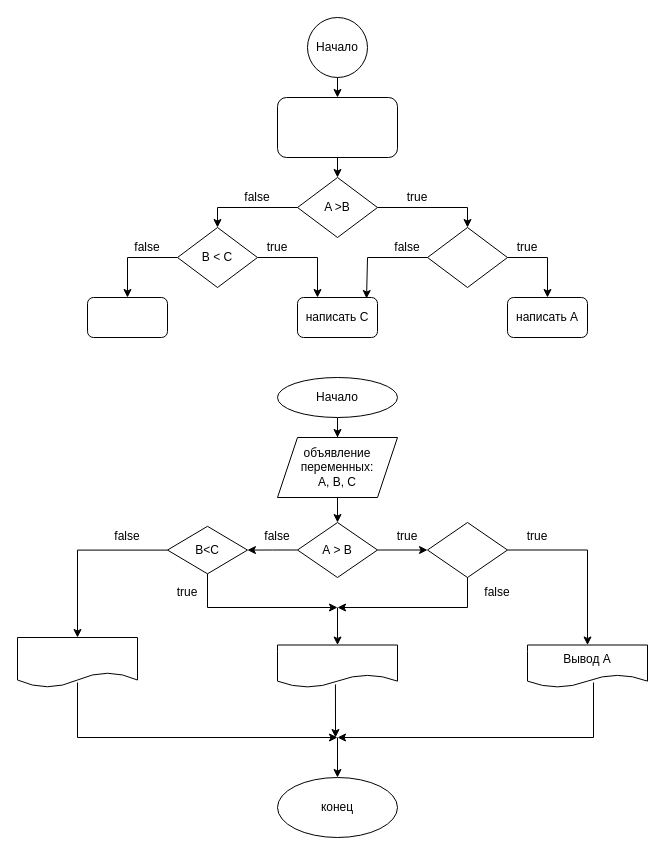
This 665x855 diagram has some shape labels left out. Each missing label, with the centre of its shape:
"A > C" goes at point (467, 257).
"А > C" goes at point (467, 550).
"Вывод В" goes at point (77, 662).
"Вывод С" goes at point (337, 666).
"написать B" goes at point (127, 317).
"Объявление A, B, C" goes at point (337, 127).
